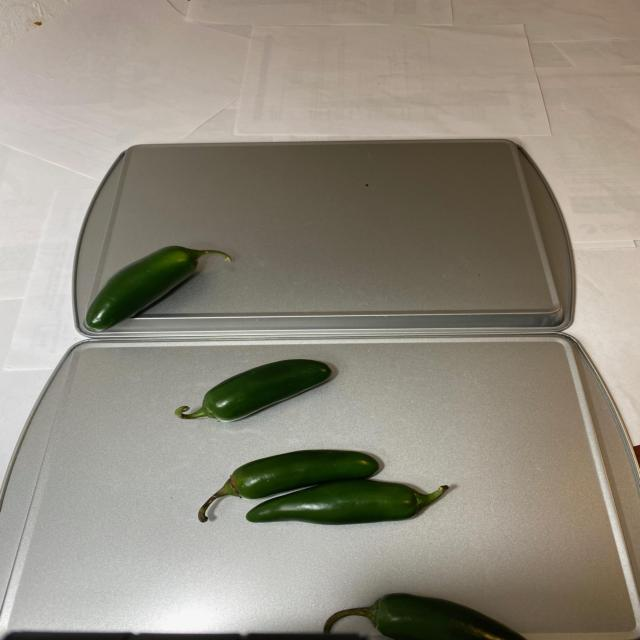chilli: (177, 357, 529, 640), (80, 242, 240, 336)
